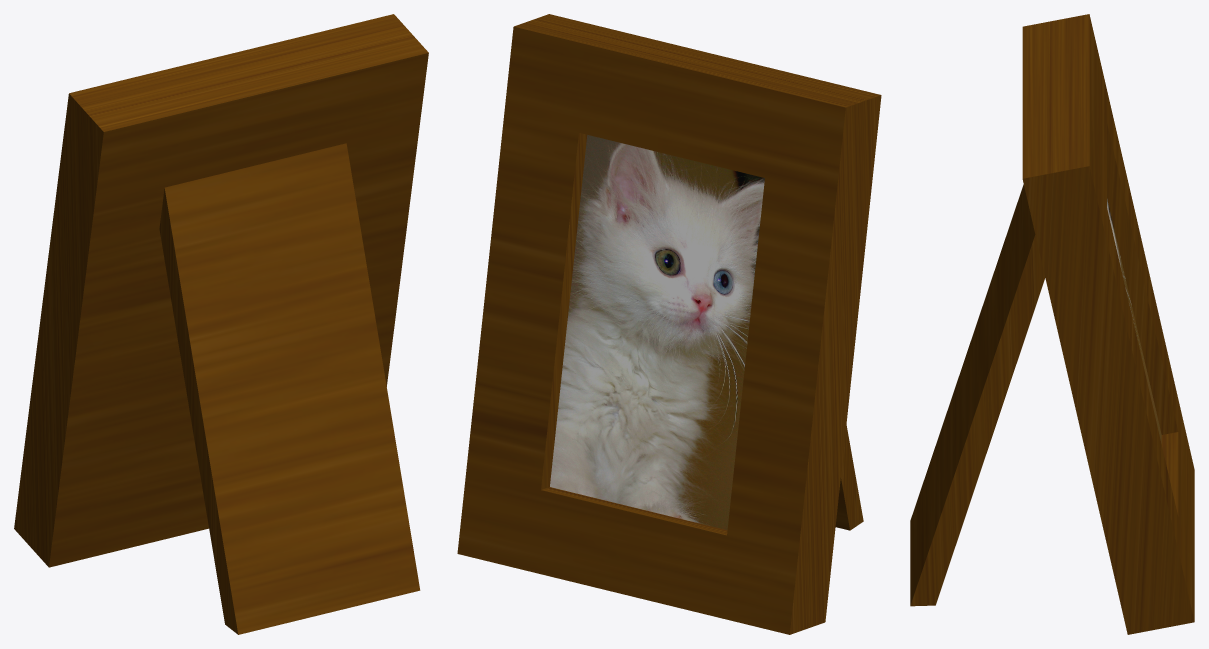
The model's file is picture_frame.obj.
3 renders of one model, left to right at view 1: azimuth 30°, elevation 25°; view 2: azimuth 150°, elevation 25°; view 3: azimuth 270°, elevation 25°, orthographic. The views are drawn at different scales.
Parts seen in each view (by area): view 1: Cube; view 2: Cube; view 3: Cube.
Part boxes in pixels (bbox=[...]): Cube: bbox=[14, 14, 428, 634]; Cube: bbox=[457, 14, 881, 634]; Cube: bbox=[910, 14, 1194, 634].
Bounding box in the file's own units: 1.4 × 2.02 × 1.11.
Materials: 1 (1 with a texture image).
